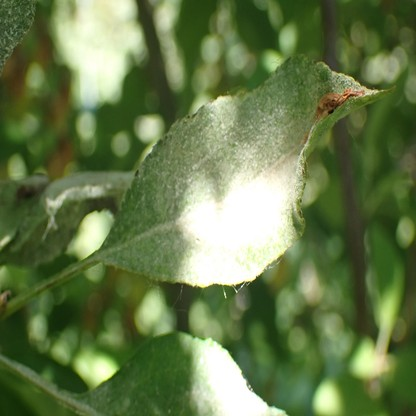powder: (100, 52, 399, 288), (75, 333, 290, 416), (43, 173, 134, 212), (0, 0, 37, 75)
